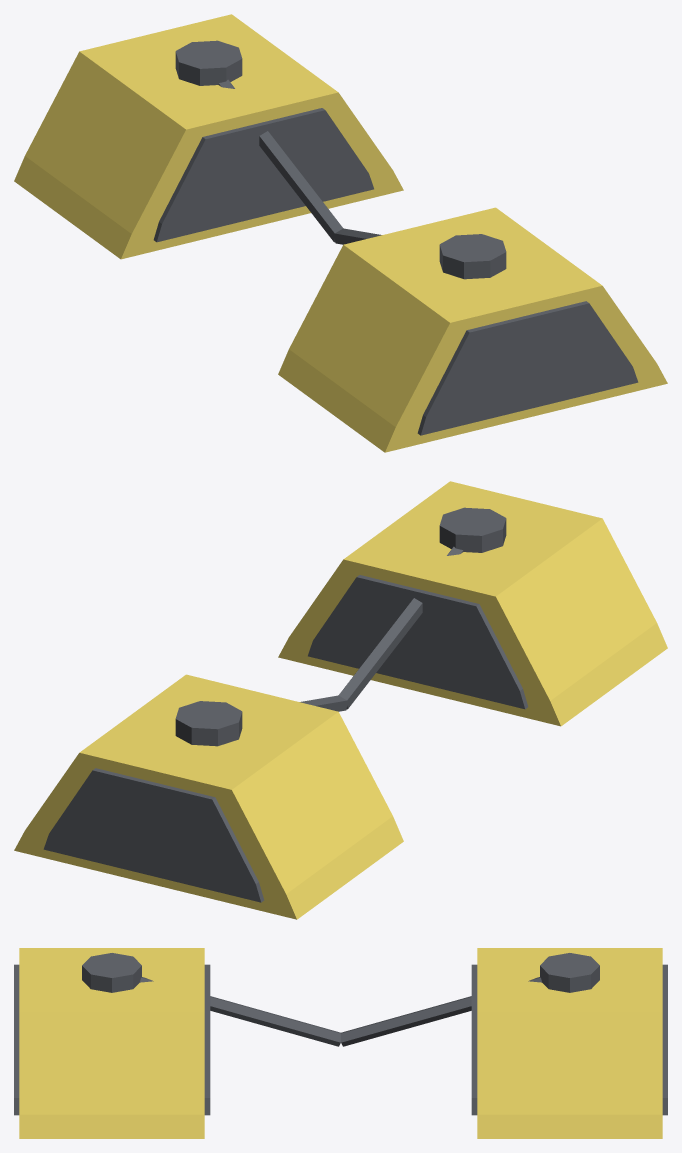
File: aircraft-fleet-and-airfield-wheel-chocks-f50926d1__32837.glb
3 renders of one model, top to bottom at view 1: azimuth 30°, elevation 25°; view 2: azimuth 150°, elevation 25°; view 3: azimuth 270°, elevation 25°, orthographic. The views are drawn at different scales.
Parts seen in each view (by area): view 1: wheel-chocks; view 2: wheel-chocks; view 3: wheel-chocks.
Boxes of the visible parts, bbox=[...] form: wheel-chocks: bbox=[14, 14, 667, 452]; wheel-chocks: bbox=[14, 481, 667, 919]; wheel-chocks: bbox=[14, 948, 667, 1138].
Size of the model in its own units: 0.52 by 0.2299 by 1.2.
